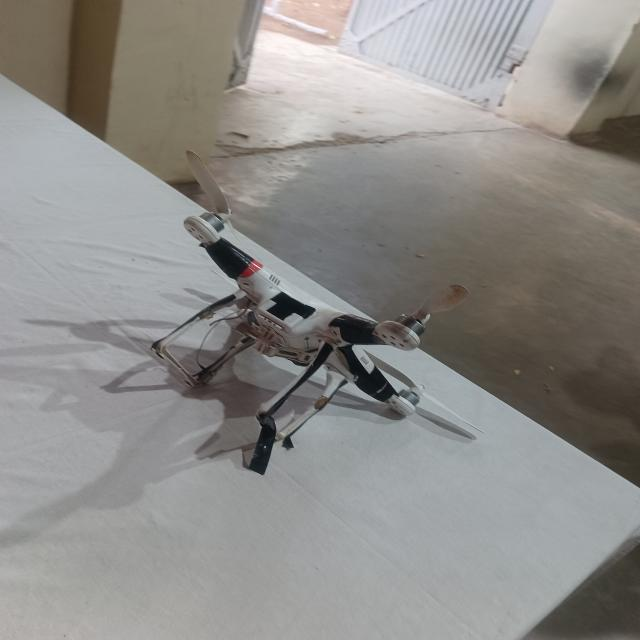drone: (117, 194, 451, 444)
